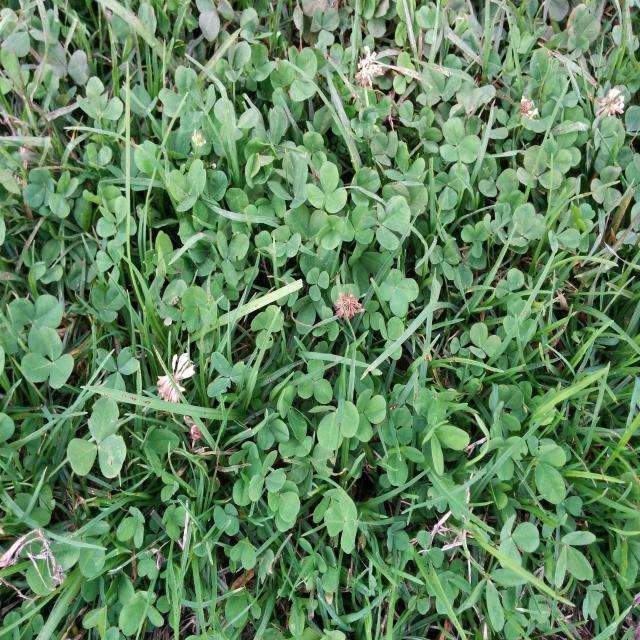Four Leaf Clover: (379, 268, 419, 318)
